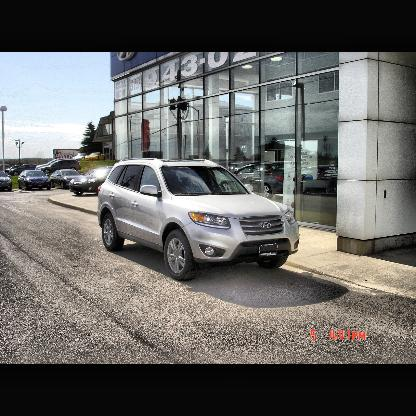Hyundai Santa Fe SUV 2012: (95, 159, 301, 284)
